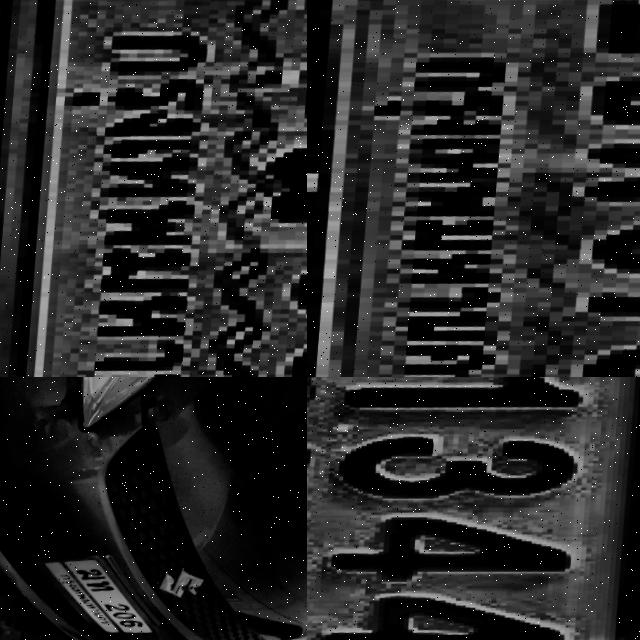license-plate: (320, 0, 640, 377), (0, 0, 307, 377), (307, 377, 640, 640), (30, 546, 165, 640)
